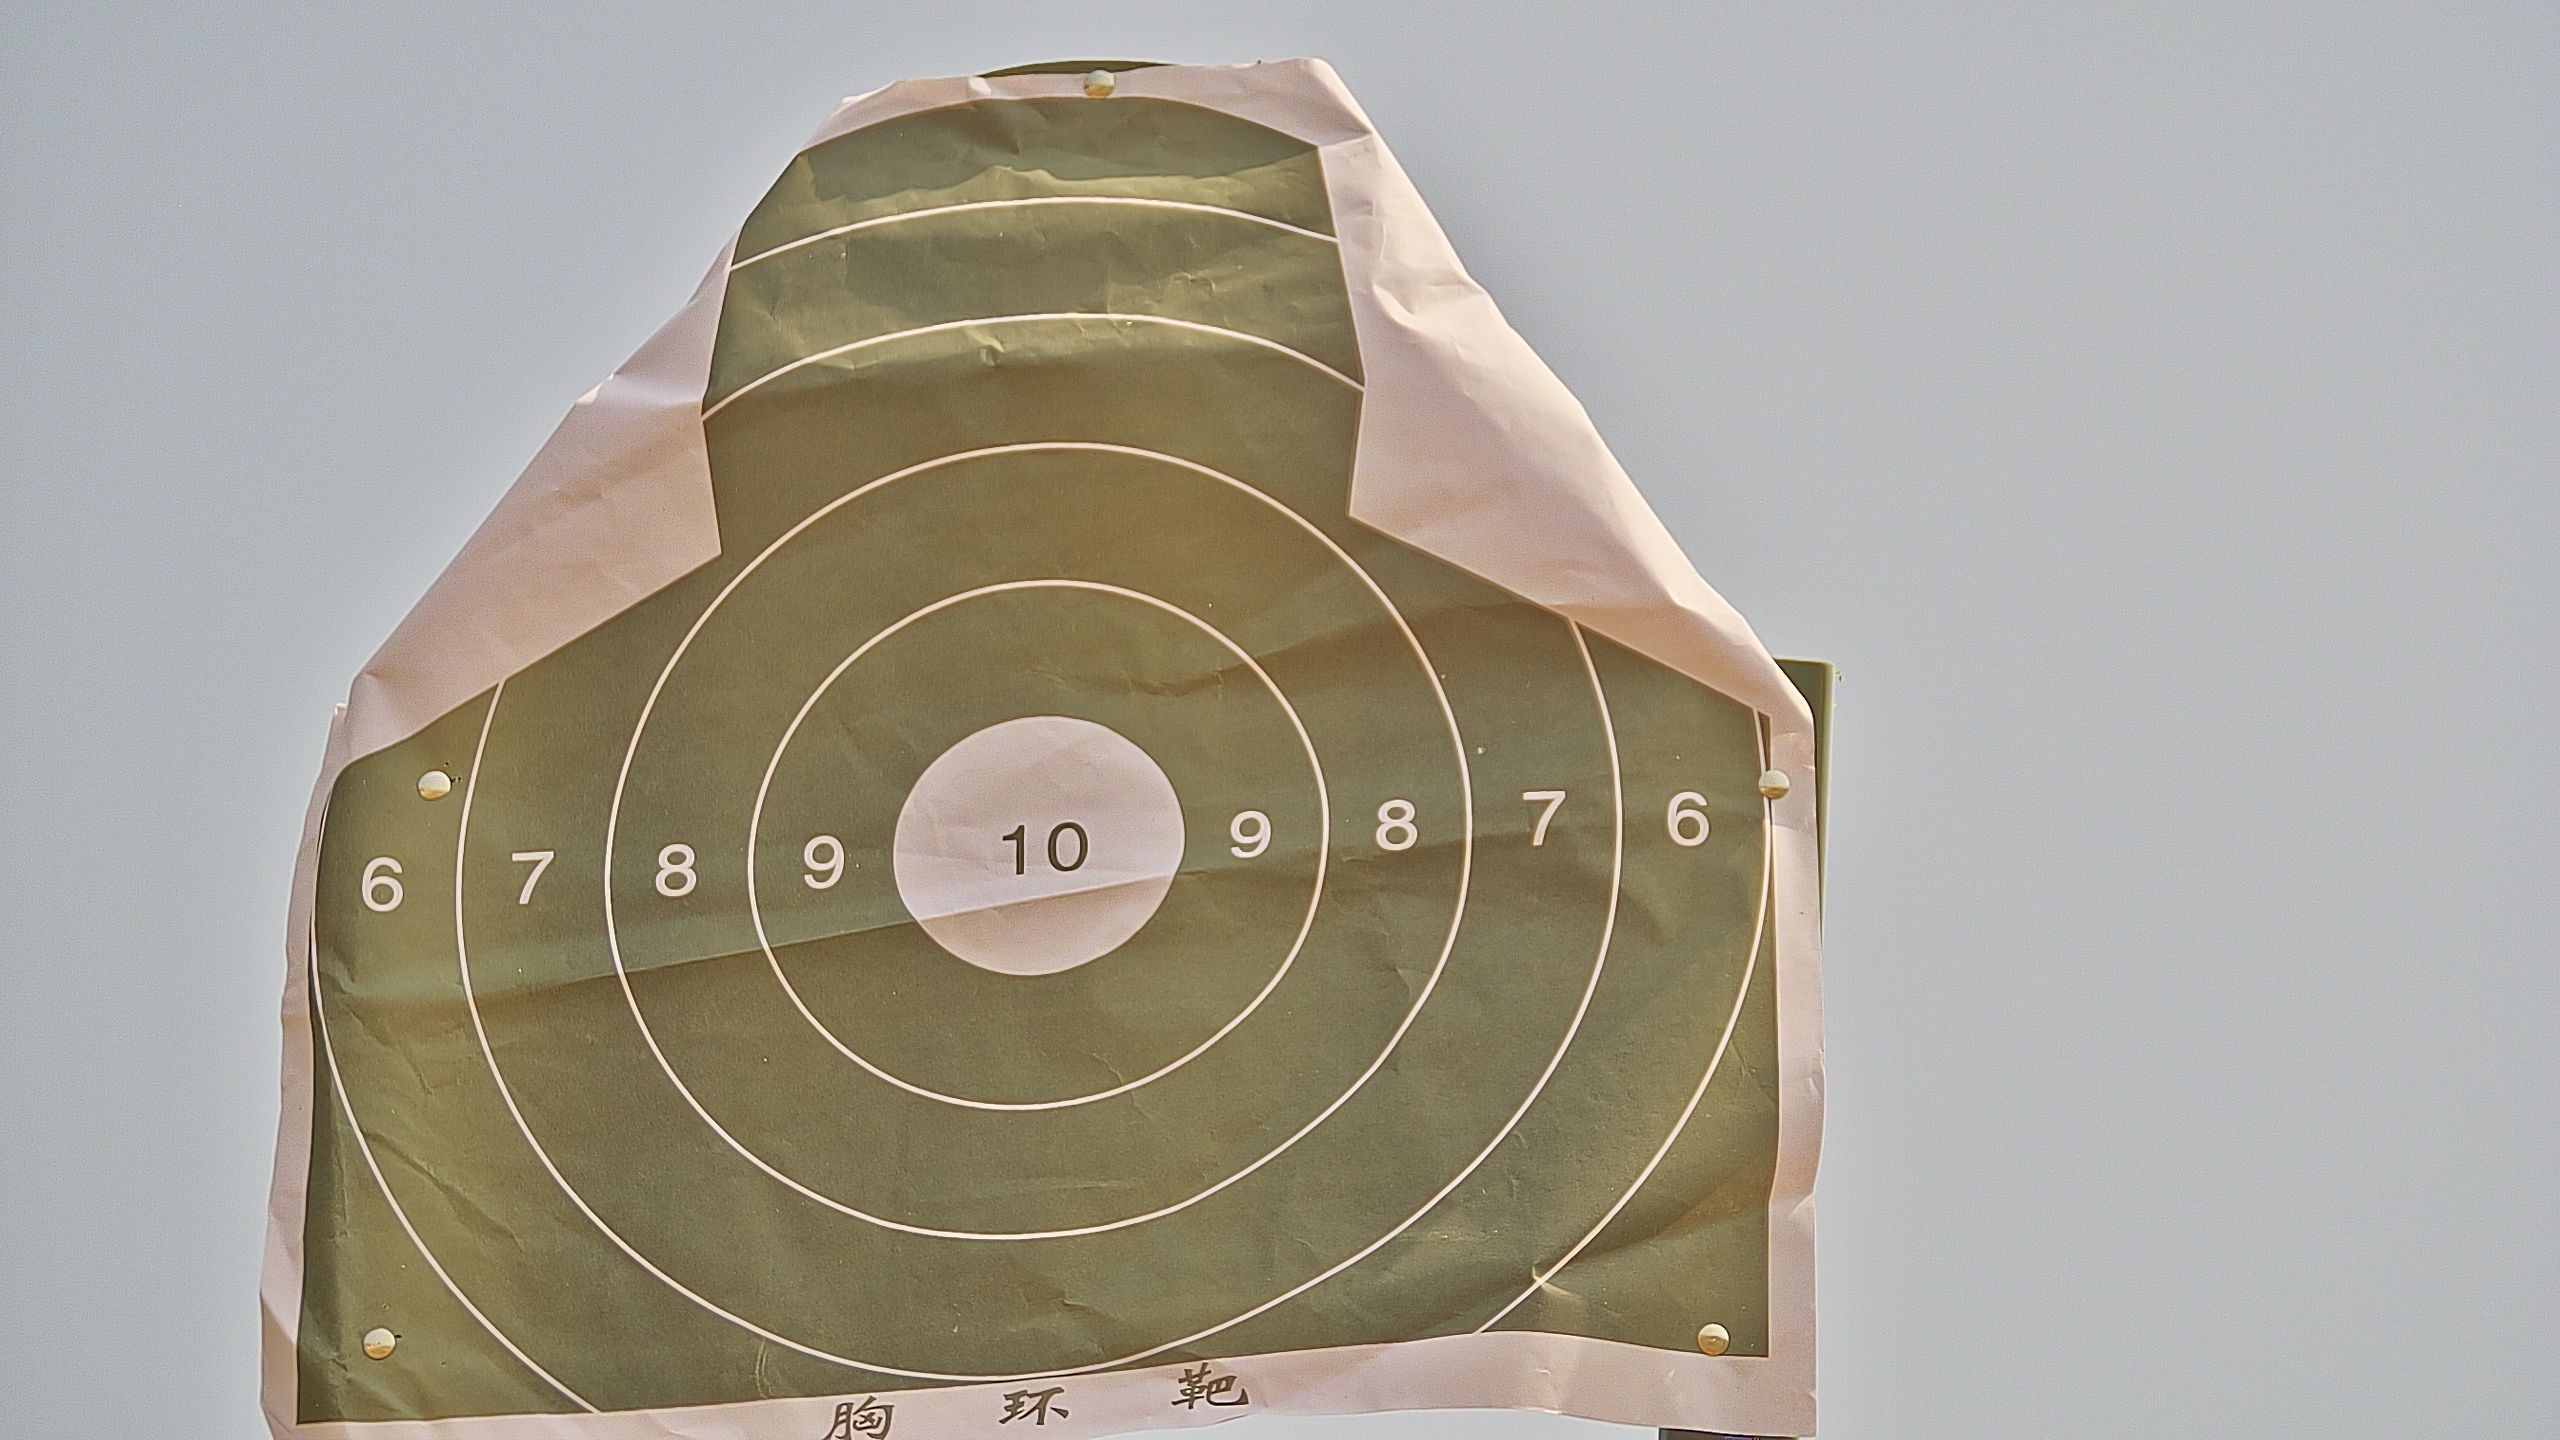kernel: (1032, 849, 1034, 851)
target: (295, 95, 1783, 1440)
ten: (893, 717, 1183, 976)
